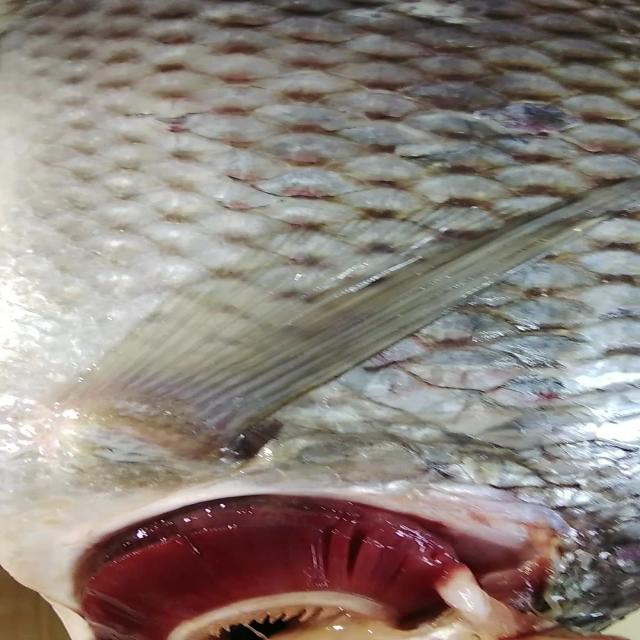Fresh: (44, 491, 488, 639)
